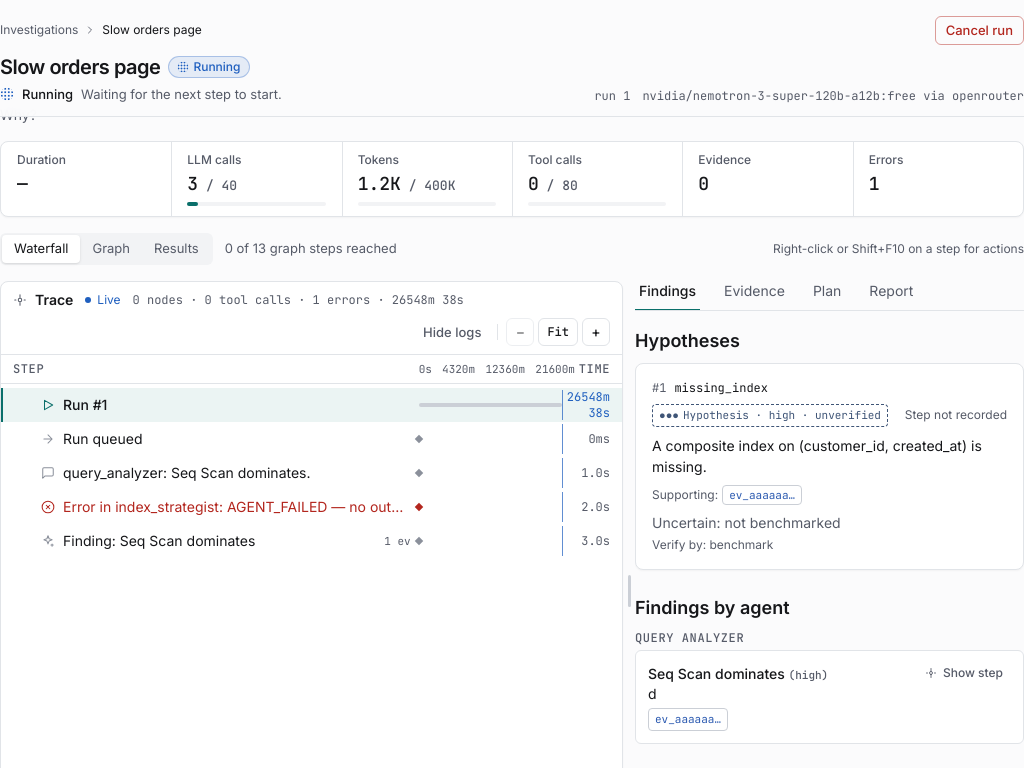
Scenario: an evidence chip opens the Plan tab with the cited node selected
Click the button with aria-label "Evidence ev_aaaaaaaaaaaa": [762, 495] box [722,485,802,505]
(page scrolled)
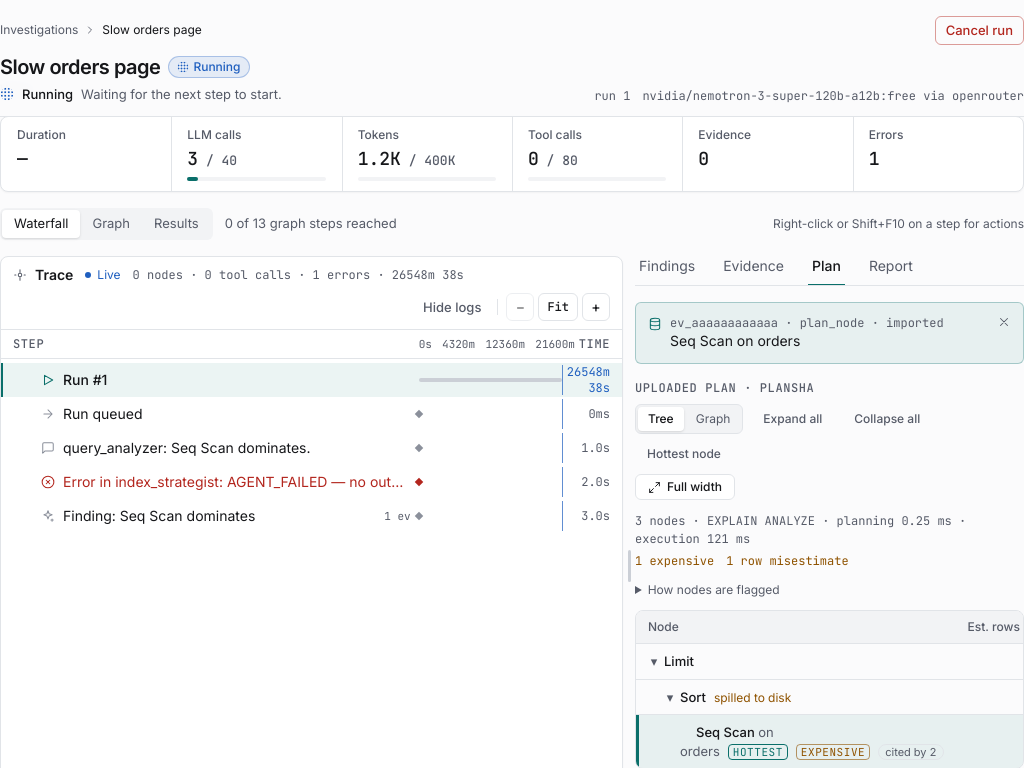
Now the row that starts with "Seq Scan" is shown, box [696,724,755,740]
Now the element named "Selected evidence" shows "Seq Scan on orders", box [670,332,800,349]
